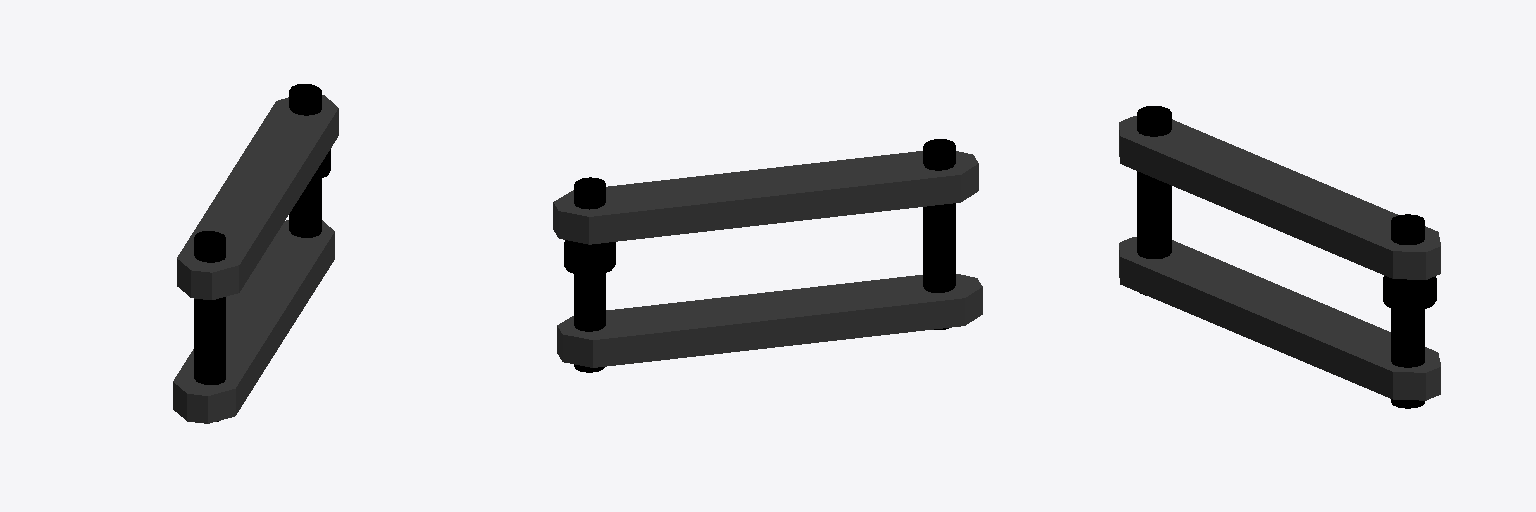
3 renders of one model, left to right at view 1: azimuth 30°, elevation 25°; view 2: azimuth 150°, elevation 25°; view 3: azimuth 270°, elevation 25°, orthographic.
Visible parts, largest first — view 1: block00033, block00021, cylinder24, cylinder31; view 2: block00021, block00033, cylinder24, cylinder31, cylinder18; view 3: block00033, block00021, cylinder24, cylinder31, cylinder18.
Boxes of the visible parts, x1,y1,x2,y2 form: block00033: [177, 95, 338, 299]; block00021: [173, 220, 334, 423]; cylinder24: [194, 231, 225, 421]; cylinder31: [289, 84, 321, 237]; block00021: [557, 274, 982, 367]; block00033: [553, 151, 978, 244]; cylinder24: [923, 139, 955, 329]; cylinder31: [574, 177, 605, 372]; cylinder18: [564, 240, 615, 275]; block00033: [1119, 116, 1440, 279]; block00021: [1119, 237, 1440, 400]; cylinder24: [1137, 106, 1171, 295]; cylinder31: [1391, 214, 1424, 408]; cylinder18: [1383, 276, 1436, 311].
Size of the model in its own units: 0.1313 by 0.0802 by 0.1295.